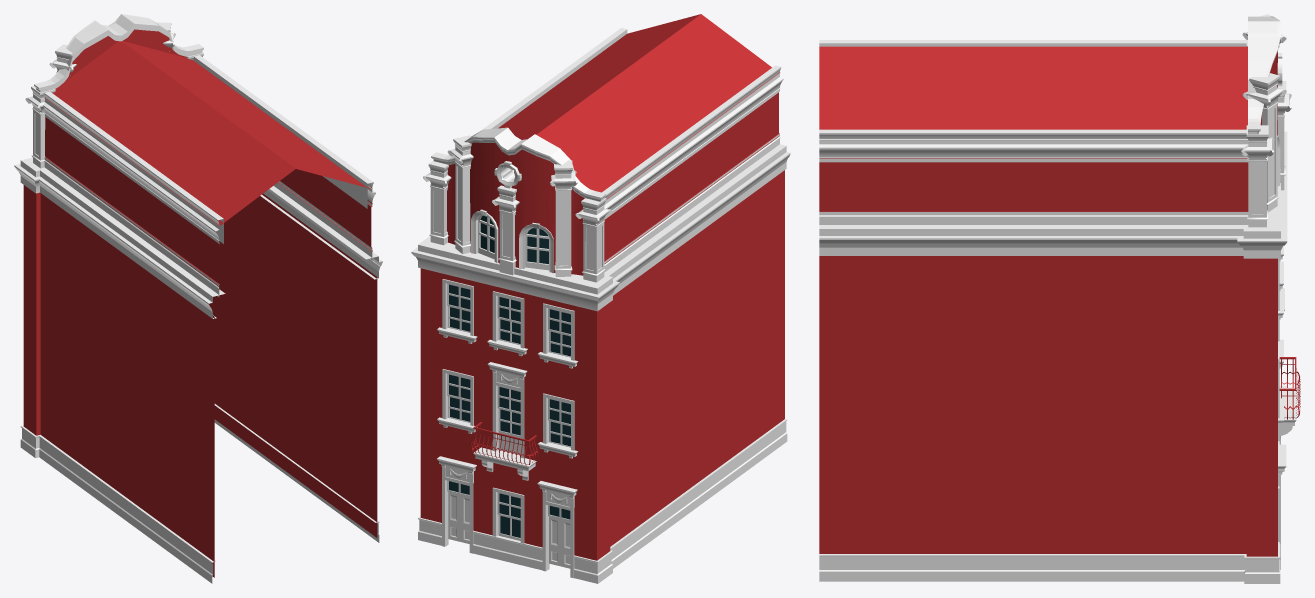
File: Huis2.fbx
The picture shows the model from 3 angles, left to right: view 1: azimuth 30°, elevation 25°; view 2: azimuth 150°, elevation 25°; view 3: azimuth 270°, elevation 25°; orthographic projection. The views are drawn at different scales.
Visible parts, largest first — view 1: Houses_grpScene_grpHouse_geo_07Parts_geo_23, Houses_grpScene_grpParts_geo_22House_geo_07; view 2: Houses_grpScene_grpHouse_geo_07Parts_geo_23, Houses_grpScene_grpParts_geo_22House_geo_07; view 3: Houses_grpScene_grpHouse_geo_07Parts_geo_23, Houses_grpScene_grpParts_geo_22House_geo_07.
Boxes of the visible parts, box(x1,y1,x2,y2) form: Houses_grpScene_grpHouse_geo_07Parts_geo_23: box(39, 41, 382, 583); Houses_grpScene_grpParts_geo_22House_geo_07: box(14, 14, 203, 458); Houses_grpScene_grpHouse_geo_07Parts_geo_23: box(448, 14, 790, 568); Houses_grpScene_grpParts_geo_22House_geo_07: box(411, 127, 619, 583); Houses_grpScene_grpHouse_geo_07Parts_geo_23: box(819, 40, 1248, 581); Houses_grpScene_grpParts_geo_22House_geo_07: box(1237, 14, 1300, 583).
Bounding box in the file's own units: 1008 × 2163 × 1879.
